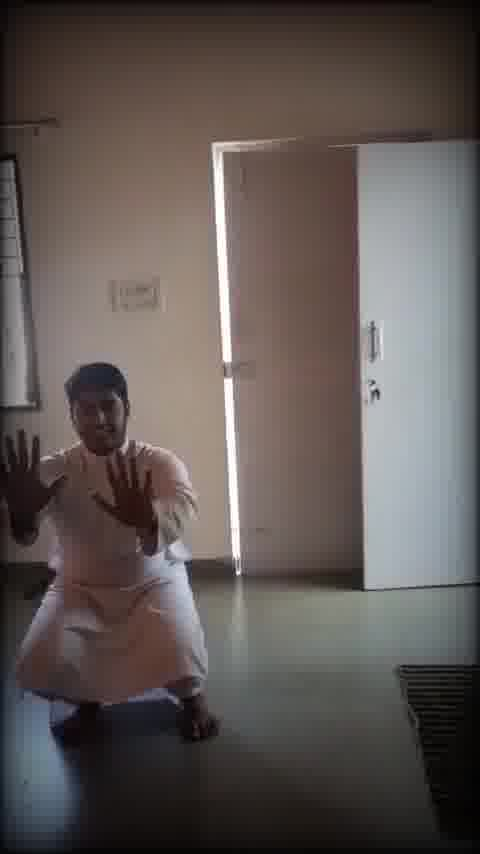duck: (2, 355, 229, 746)
